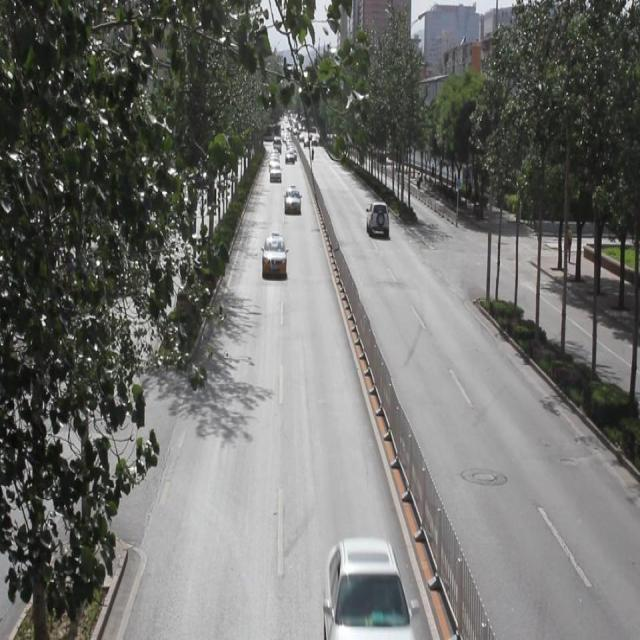car: (324, 538, 410, 640), (262, 233, 286, 273), (365, 200, 387, 236), (284, 186, 300, 213)
